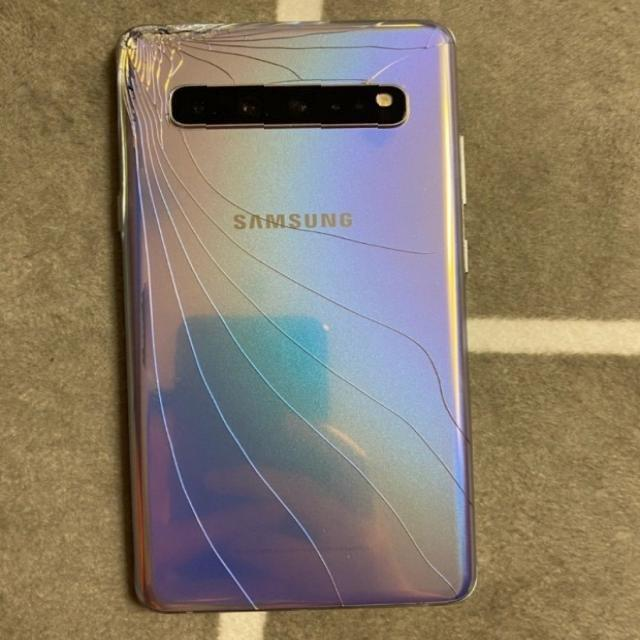phone: (112, 18, 478, 614)
